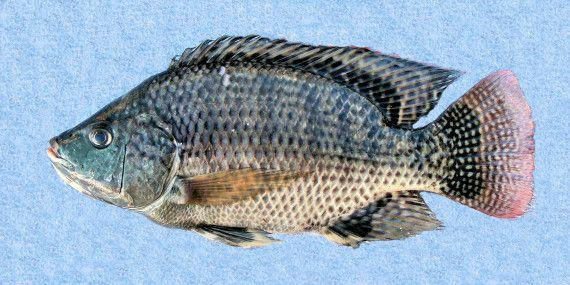Tilapia: (48, 34, 538, 248)
